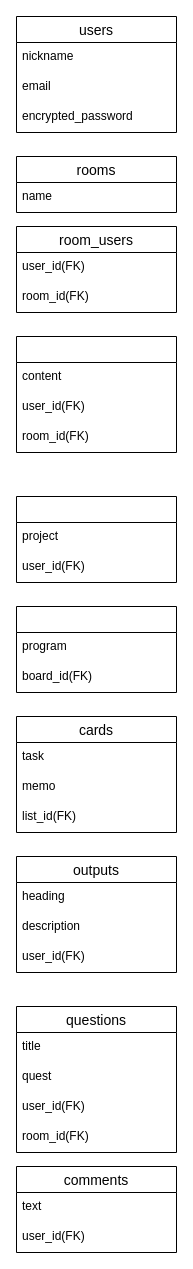
This 193x1269 diagram has some shape labels left out. The shapes that lost their labels are listed below. From the top down, each one's box as (x1, y1, x2, y2) in pixels, then its label:
(16, 336, 176, 452): messages
(16, 496, 176, 582): boards
(16, 606, 176, 692): lists
